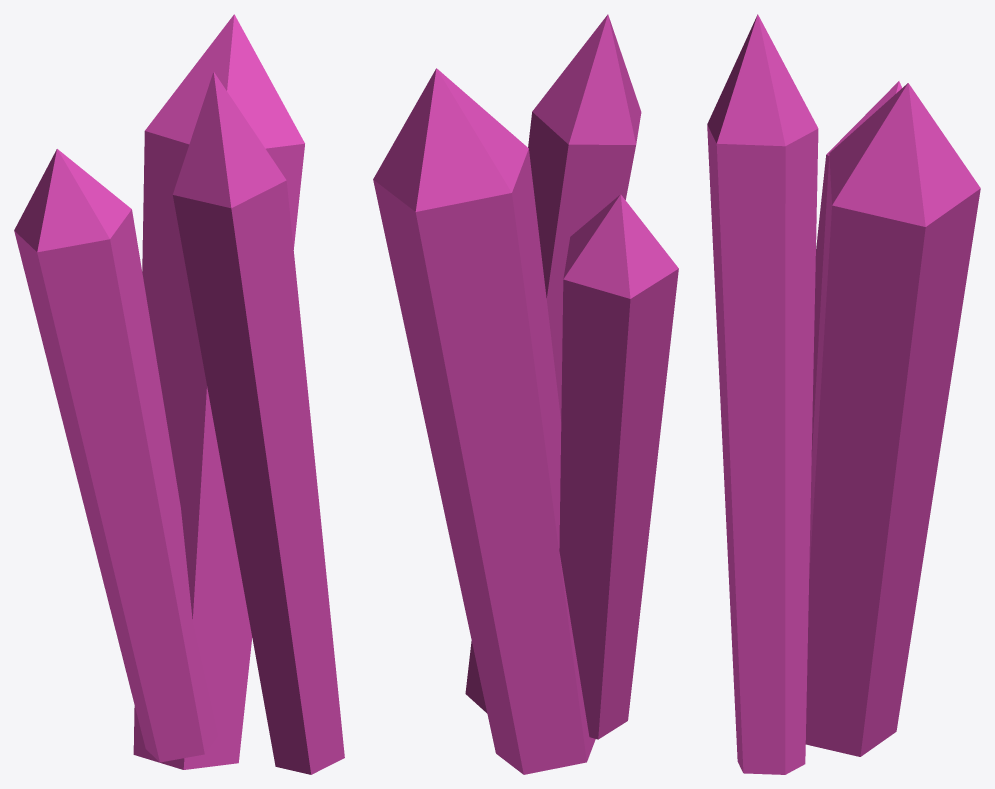
File: small_crystals_10_3.fbx
3 renders of one model, left to right at view 1: azimuth 30°, elevation 25°; view 2: azimuth 150°, elevation 25°; view 3: azimuth 270°, elevation 25°, orthographic.
Visible parts, largest first — view 1: small crystals.016; view 2: small crystals.016; view 3: small crystals.016.
Boxes of the visible parts, x1=… form: small crystals.016: x1=14, y1=14, x2=344, y2=774; small crystals.016: x1=373, y1=14, x2=678, y2=774; small crystals.016: x1=707, y1=14, x2=980, y2=774.
Bounding box in the file's own units: 87.65 × 220 × 76.32.
